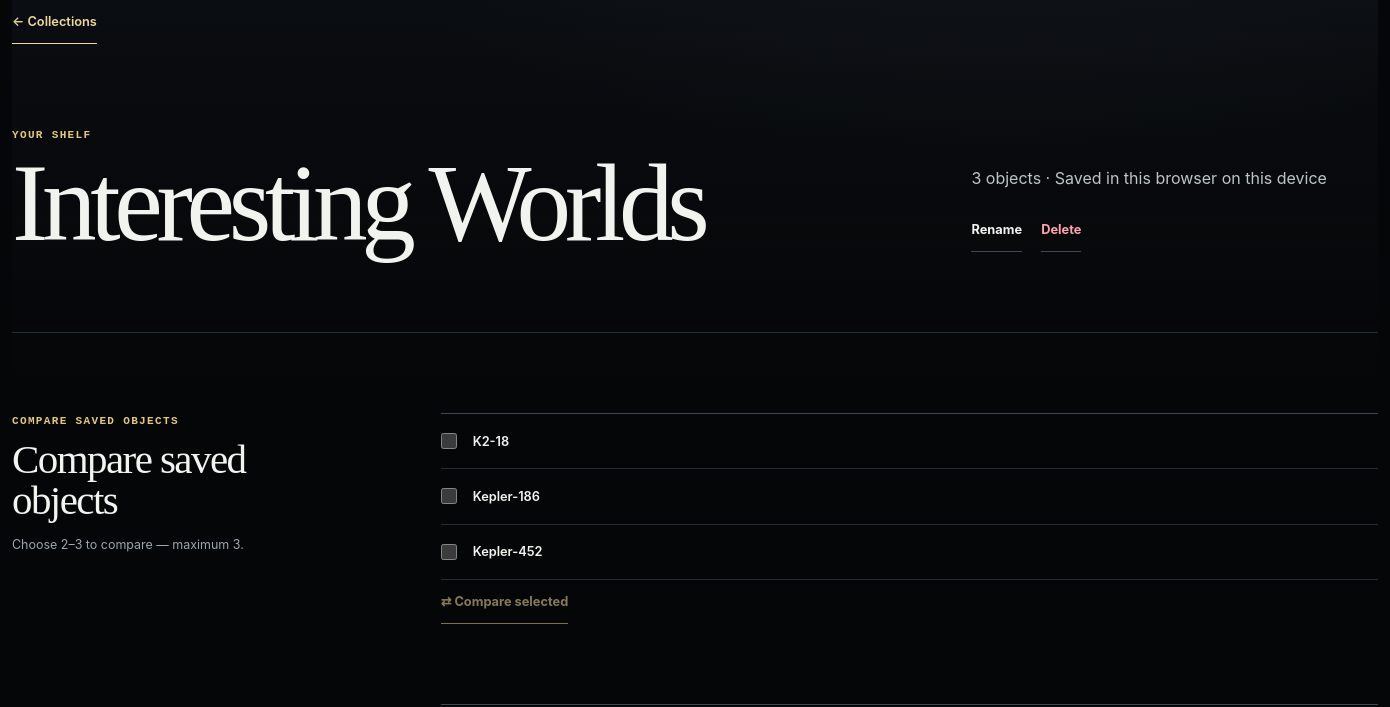
Test: CollectionDetailView › compare selection › communicates the maximum without color-only signals
Click the checkbox labelled "K2-18": (449, 441) [441,433,457,449]
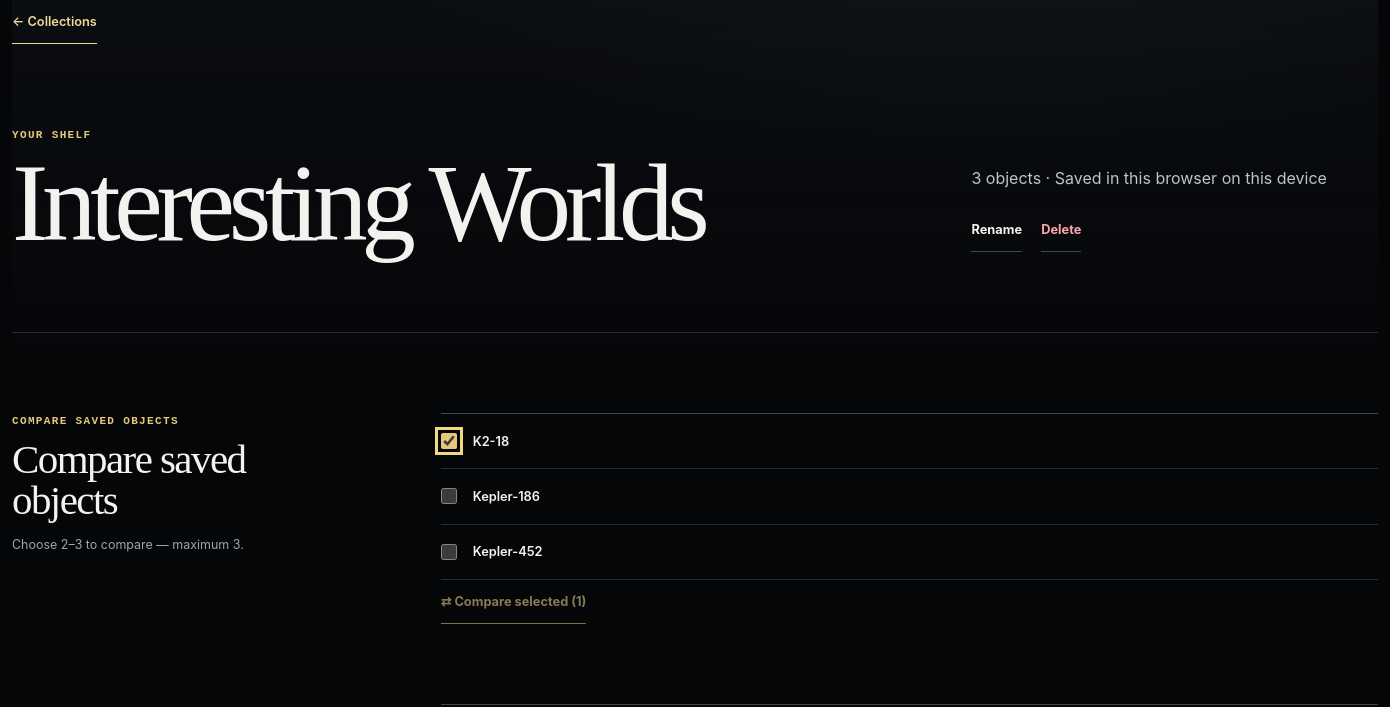
Click the checkbox labelled "Kepler-186": (449, 496) [441,488,457,504]
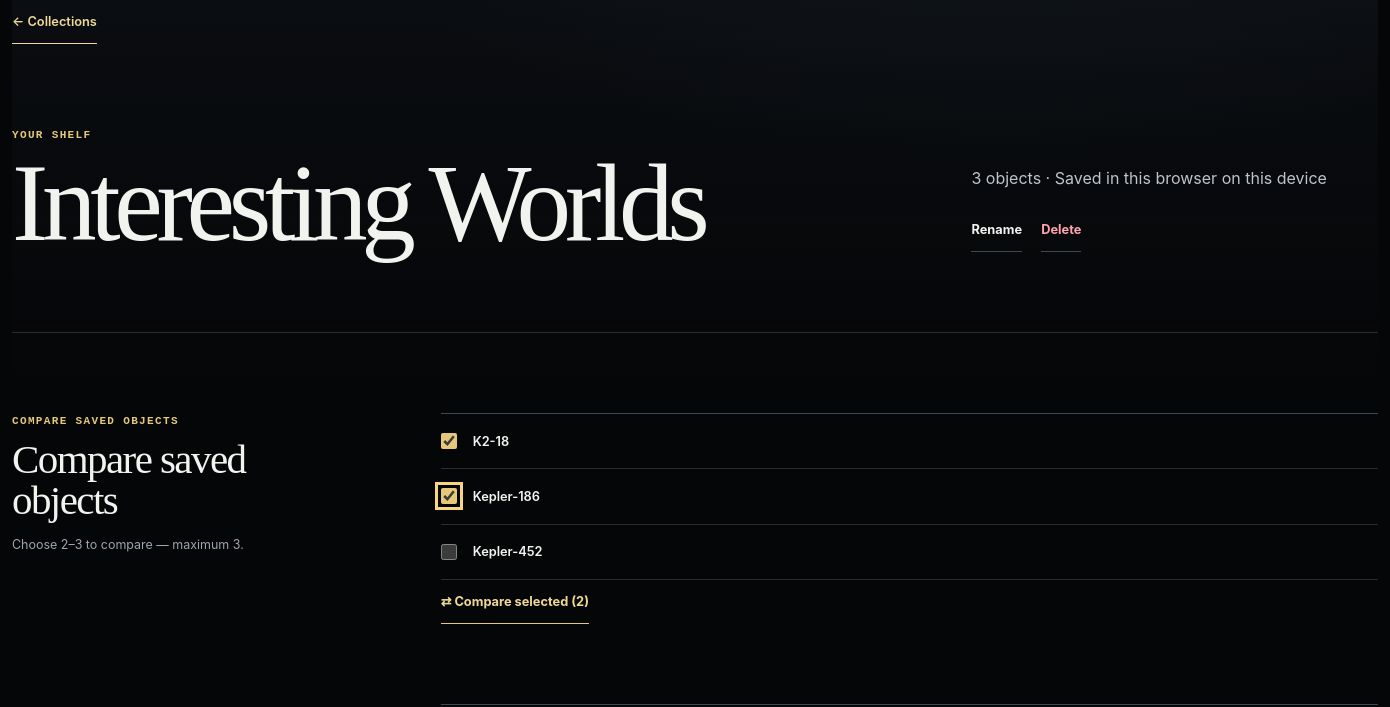
Click the checkbox labelled "Kepler-452": (449, 552) [441,544,457,560]
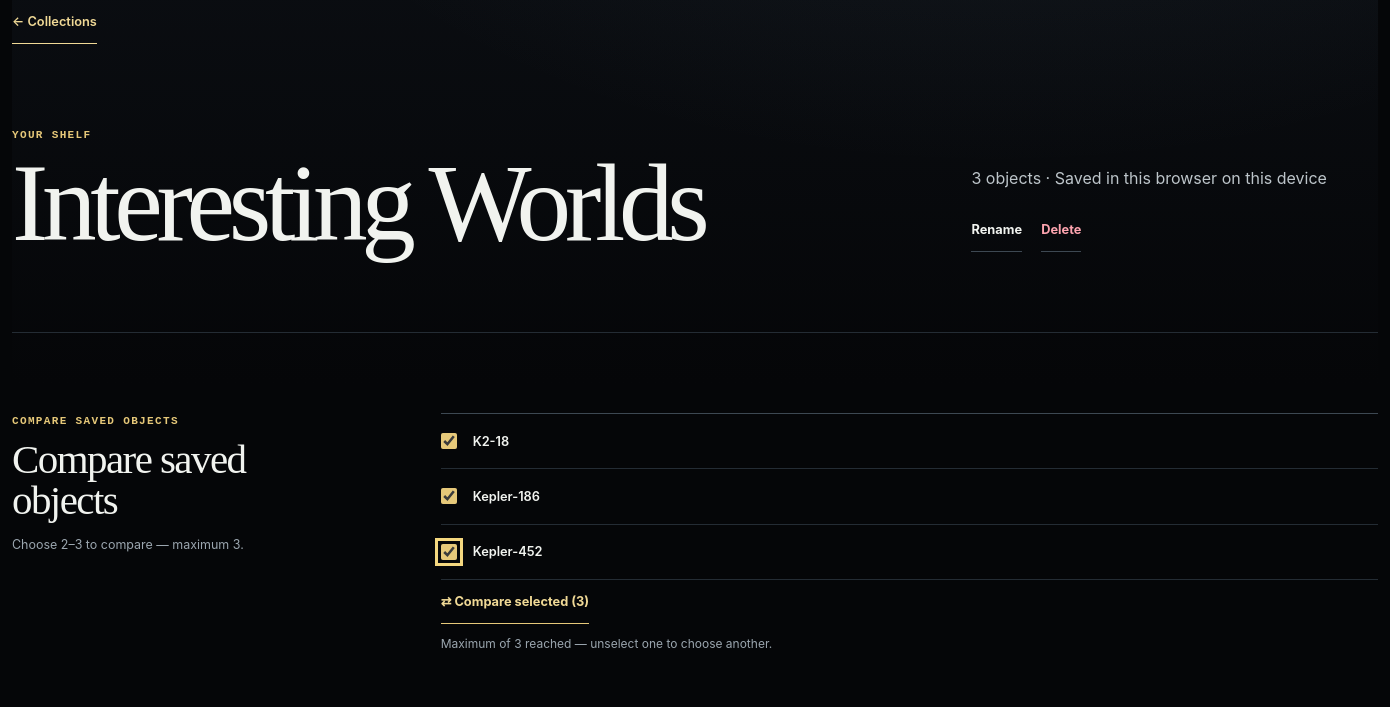
expect the text "Maximum of 3 reached — unselect one to choose another." is shown: met, box [441,636,772,651]
